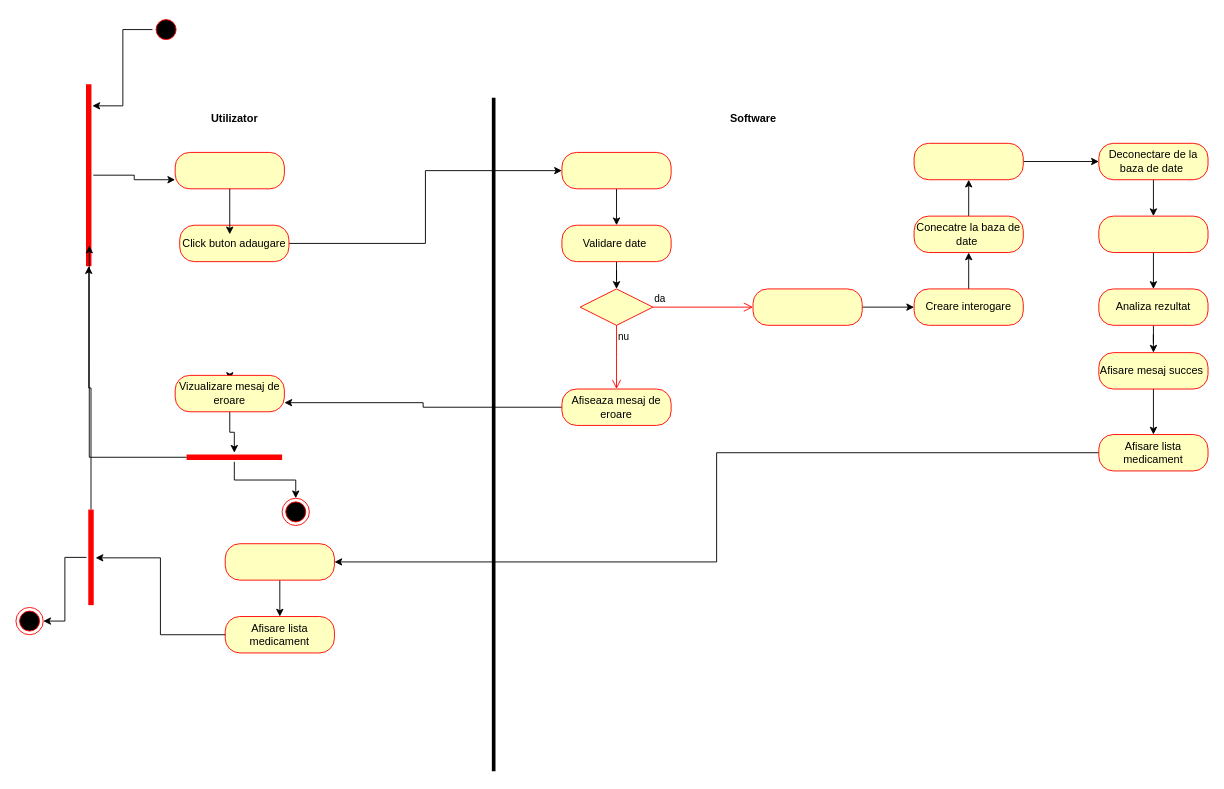
This 1224x789 diagram has some shape labels left out. The shapes that lost their labels are listed below. From the top down, each one's centre as x and y in pixels, then its label:
At (x=229, y=170): "Introducere nume si producator".
At (x=616, y=170): "Preluare date".
At (x=968, y=161): "Executarea interogarii".
At (x=1153, y=234): "Preluare rezultate interogare".
At (x=807, y=306): "Creare obiect medicament".
At (x=279, y=561): "Afisare mesaj de succes".
